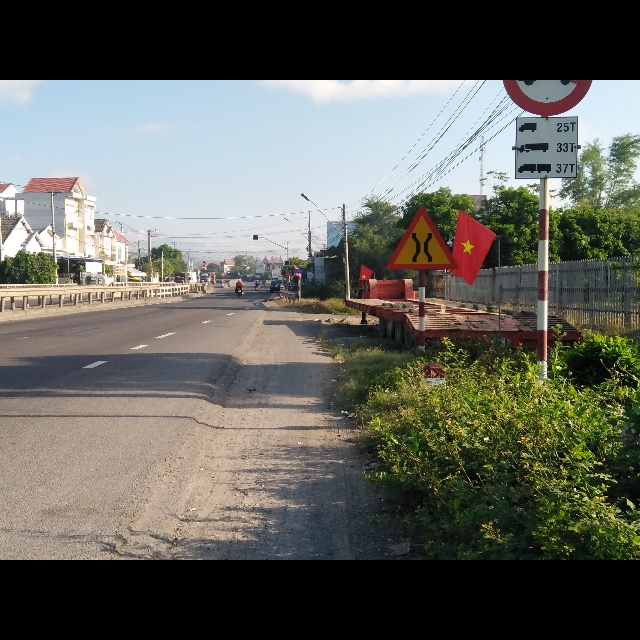Cầu hẹp: (387, 208, 459, 276)
